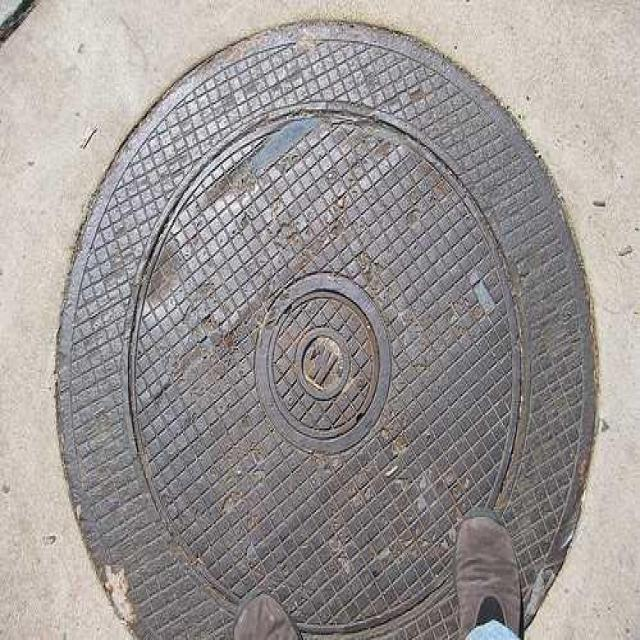manhole: (55, 20, 600, 640)
